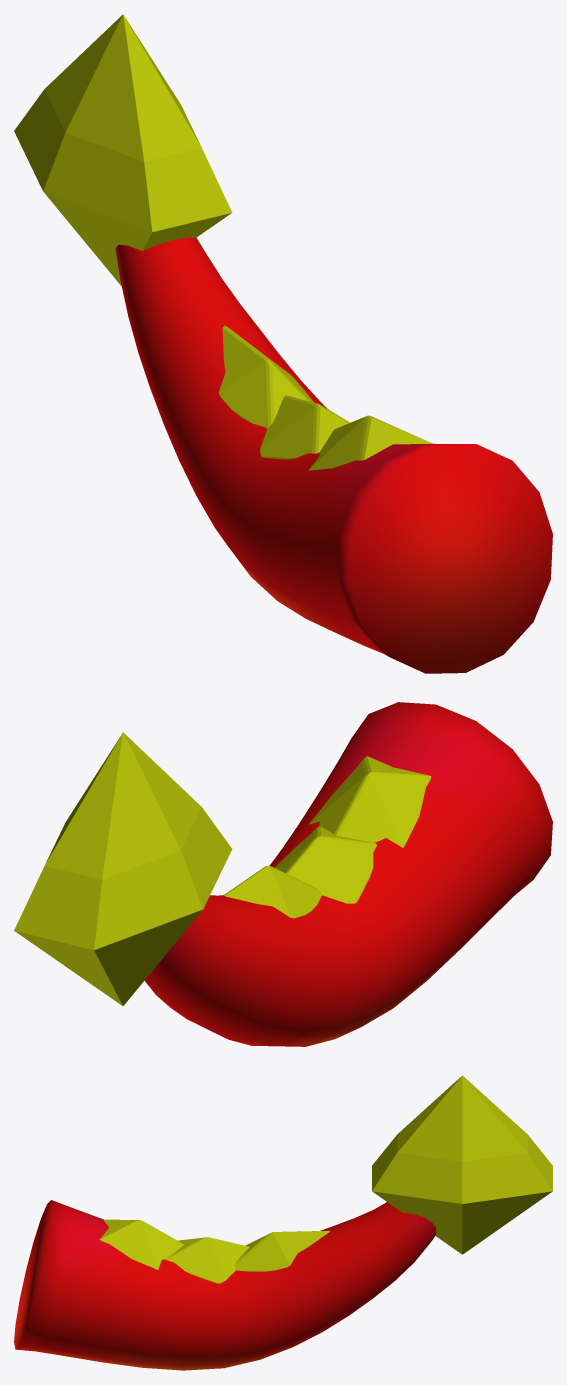
Rendered from GXR_TAIL_02_PREDATOR.glb.
The picture shows the model from 3 angles, top to bottom: view 1: azimuth 30°, elevation 25°; view 2: azimuth 150°, elevation 25°; view 3: azimuth 270°, elevation 25°; orthographic projection. The views are drawn at different scales.
Visible parts, largest first — view 1: Mesh_Tail_surface, Mesh_Blade, Mesh_Tail_Overlapping_Scale.002, Mesh_Tail_Overlapping_Scale.001, Mesh_Tail_Overlapping_Scale; view 2: Mesh_Tail_surface, Mesh_Blade, Mesh_Tail_Overlapping_Scale, Mesh_Tail_Overlapping_Scale.001, Mesh_Tail_Overlapping_Scale.002; view 3: Mesh_Tail_surface, Mesh_Blade, Mesh_Tail_Overlapping_Scale, Mesh_Tail_Overlapping_Scale.001, Mesh_Tail_Overlapping_Scale.002.
Part boxes in pixels (left/top/right/bottom): Mesh_Tail_surface: left=115, top=237, right=552, bottom=673; Mesh_Blade: left=14, top=14, right=232, bottom=286; Mesh_Tail_Overlapping_Scale.002: left=218, top=325, right=313, bottom=428; Mesh_Tail_Overlapping_Scale.001: left=260, top=395, right=350, bottom=459; Mesh_Tail_Overlapping_Scale: left=308, top=415, right=433, bottom=470; Mesh_Tail_surface: left=144, top=702, right=552, bottom=1046; Mesh_Blade: left=14, top=732, right=232, bottom=1005; Mesh_Tail_Overlapping_Scale: left=308, top=756, right=431, bottom=847; Mesh_Tail_Overlapping_Scale.001: left=274, top=826, right=376, bottom=903; Mesh_Tail_Overlapping_Scale.002: left=223, top=865, right=322, bottom=918; Mesh_Tail_surface: left=14, top=1200, right=435, bottom=1370; Mesh_Blade: left=372, top=1075, right=552, bottom=1254; Mesh_Tail_Overlapping_Scale: left=99, top=1219, right=183, bottom=1269; Mesh_Tail_Overlapping_Scale.001: left=166, top=1237, right=249, bottom=1283; Mesh_Tail_Overlapping_Scale.002: left=235, top=1230, right=329, bottom=1271.
Bounding box in the file's own units: 0.14 × 0.2903 × 0.4899.
